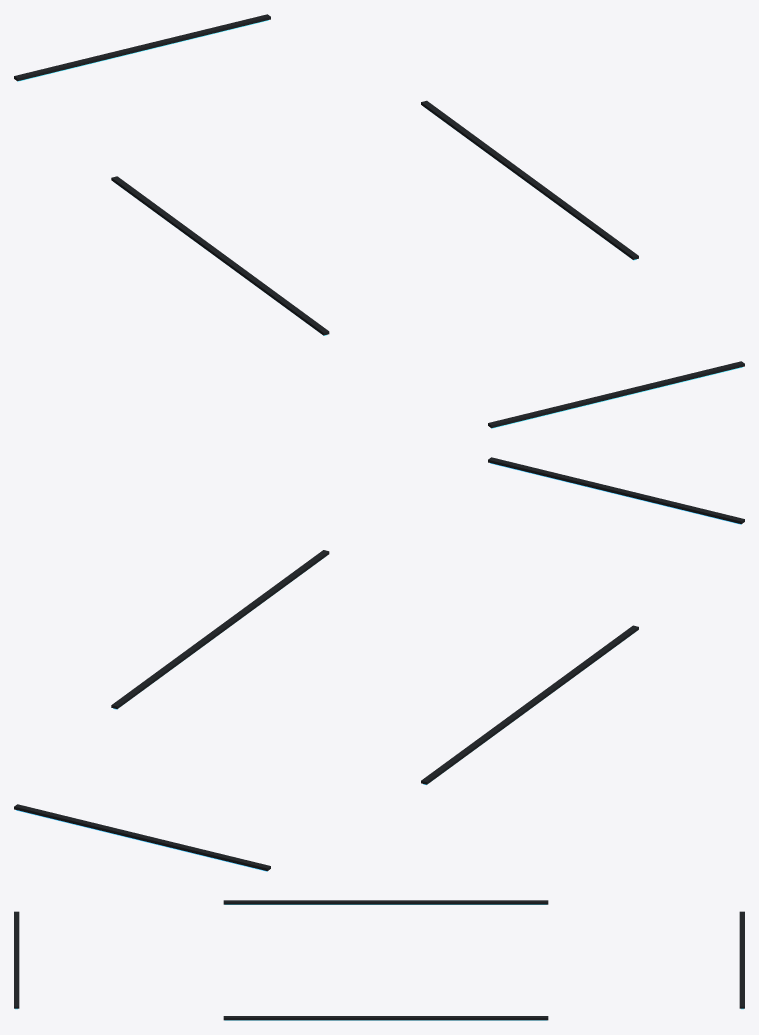
Rendered from kaze_gt.glb.
3 renders of one model, top to bottom at view 1: azimuth 30°, elevation 25°; view 2: azimuth 150°, elevation 25°; view 3: azimuth 270°, elevation 25°, orthographic. The views are drawn at different scales.
Visible parts, largest first — view 1: model; view 2: model; view 3: model.
Boxes of the visible parts, x1=… form: model: x1=14, y1=14, x2=744, y2=428; model: x1=14, y1=457, x2=744, y2=871; model: x1=14, y1=900, x2=744, y2=1020.
Bounding box in the file's own units: 1.49 × 0.0181 × 3.9.
Materials: 2 (1 with a texture image).
